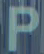Parking: (5, 1, 43, 50)
